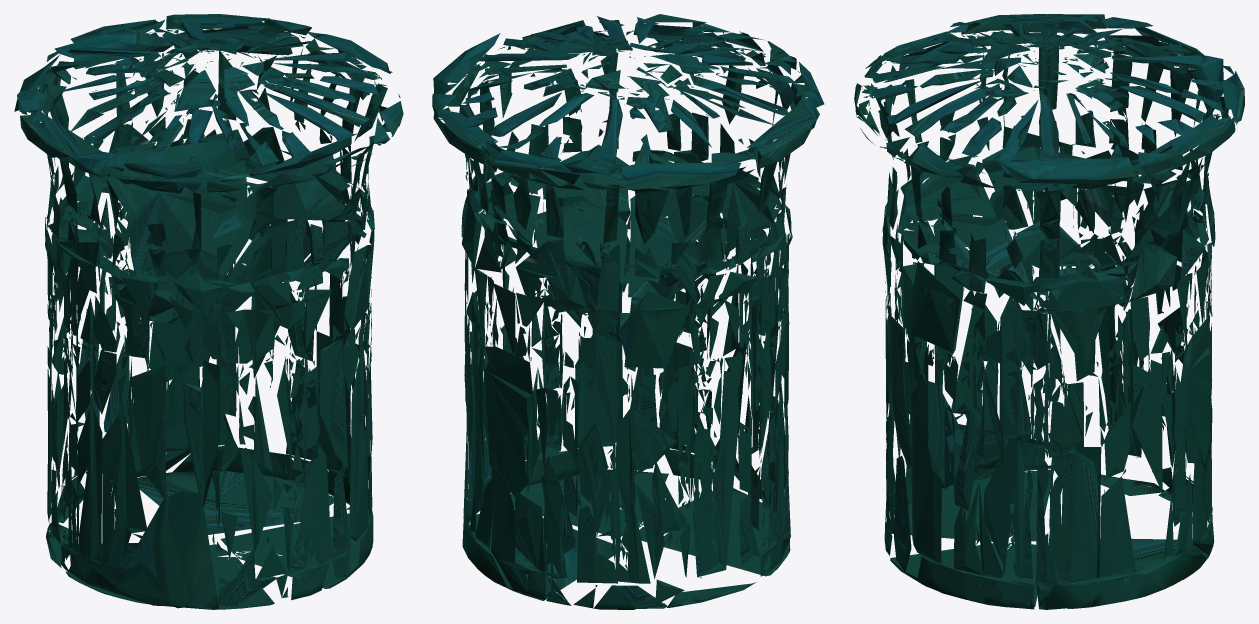
Rendered from CourtTrashBin.obj.
3 views of the same model, side by side, from view 1: azimuth 30°, elevation 25°; view 2: azimuth 150°, elevation 25°; view 3: azimuth 270°, elevation 25° (orthographic).
Bounding box in the file's own units: 0.6599 × 0.9 × 0.6594.
Materials: 1 (1 with a texture image).
